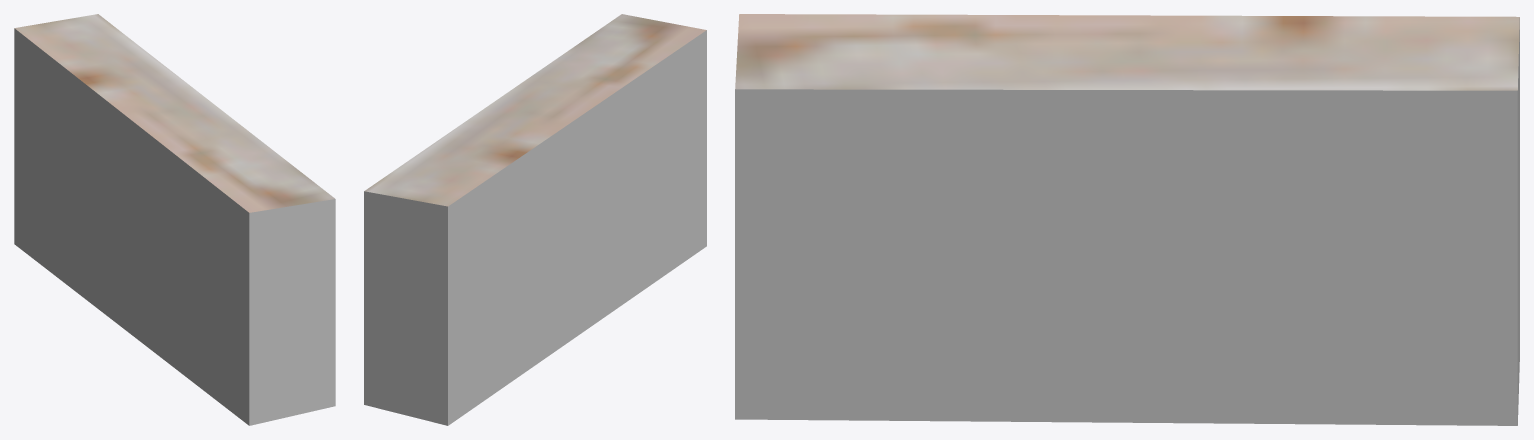
Rendered from DEBW_0010007THYX.gltf.
3 renders of one model, left to right at view 1: azimuth 30°, elevation 25°; view 2: azimuth 150°, elevation 25°; view 3: azimuth 270°, elevation 25°, orthographic. The views are drawn at different scales.
Visible parts, largest first — view 1: Z_UP; view 2: Z_UP; view 3: Z_UP.
Part boxes in pixels (box(x1,y1,x2,y2)): Z_UP: box(14, 14, 335, 425); Z_UP: box(364, 14, 706, 425); Z_UP: box(735, 14, 1519, 425).
Size of the model in its own units: 1.69 by 3.74 by 7.73.
2 materials, 1 textured.
